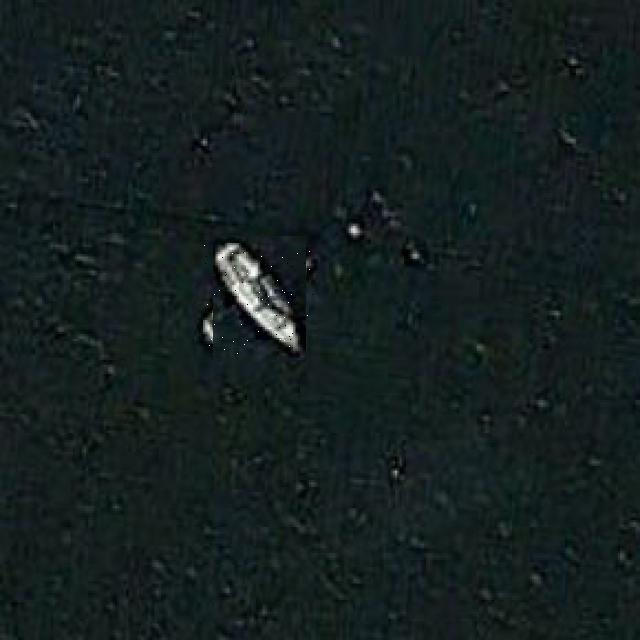boat: (204, 244, 314, 354)
